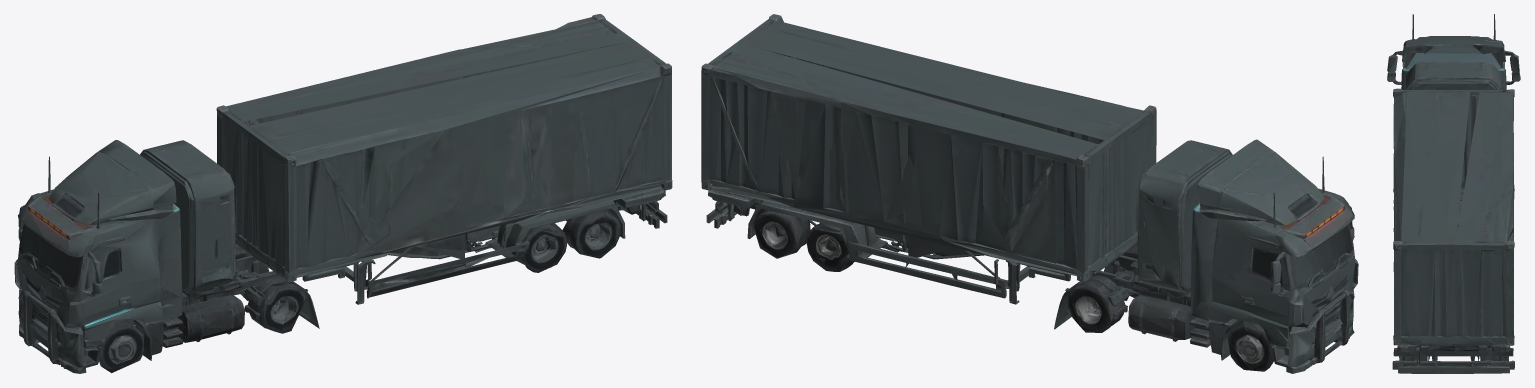
Rendered from mx_car_truck.glb.
3 renders of one model, left to right at view 1: azimuth 30°, elevation 25°; view 2: azimuth 150°, elevation 25°; view 3: azimuth 270°, elevation 25°, orthographic. The views are drawn at different scales.
Bounding box in the file's own units: 1.9 × 0.5558 × 0.4419.
Materials: 1 (1 with a texture image).
